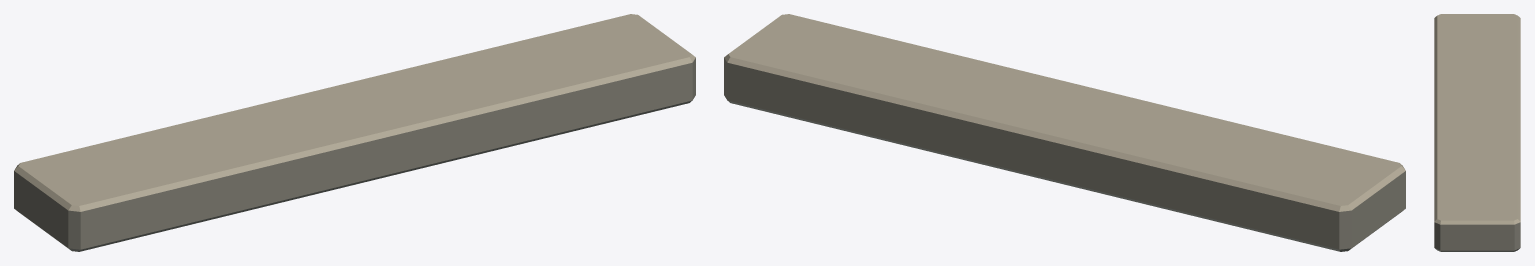
File: paving-edge.glb
The picture shows the model from 3 angles, left to right: view 1: azimuth 30°, elevation 25°; view 2: azimuth 150°, elevation 25°; view 3: azimuth 270°, elevation 25°; orthographic projection. The views are drawn at different scales.
Parts seen in each view (by area): view 1: paving-edge; view 2: paving-edge; view 3: paving-edge.
Boxes of the visible parts, box(x1,y1,x2,y2) form: paving-edge: box(14, 14, 695, 251); paving-edge: box(724, 14, 1405, 251); paving-edge: box(1434, 14, 1520, 251).
Size of the model in its own units: 2 by 0.14 by 0.35.
